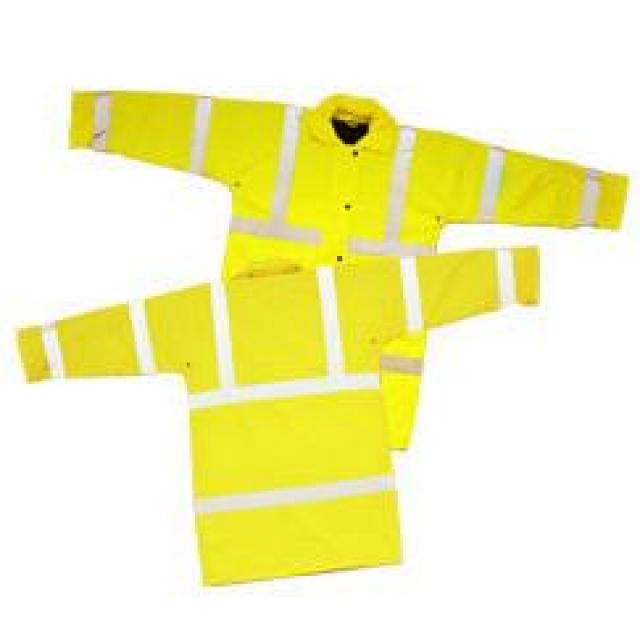Reflective-Jacket: (5, 40, 640, 629), (65, 74, 622, 452), (10, 241, 548, 632)
